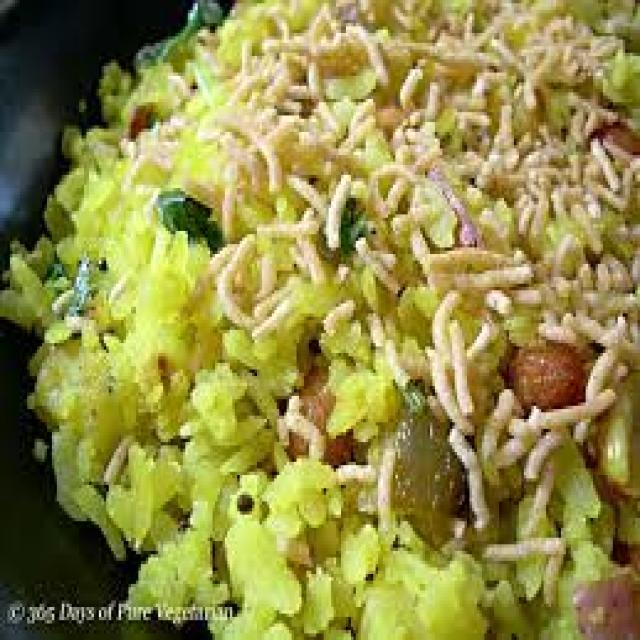POHA: (0, 0, 638, 637)
